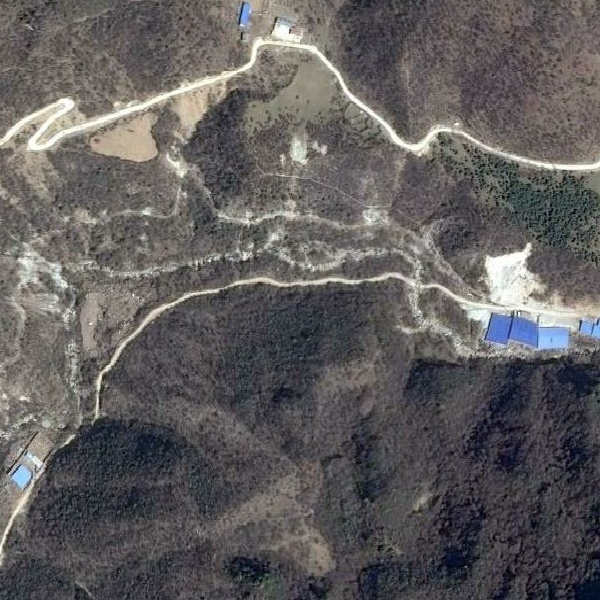slope: (482, 237, 599, 315), (165, 78, 227, 179), (275, 122, 329, 178)
